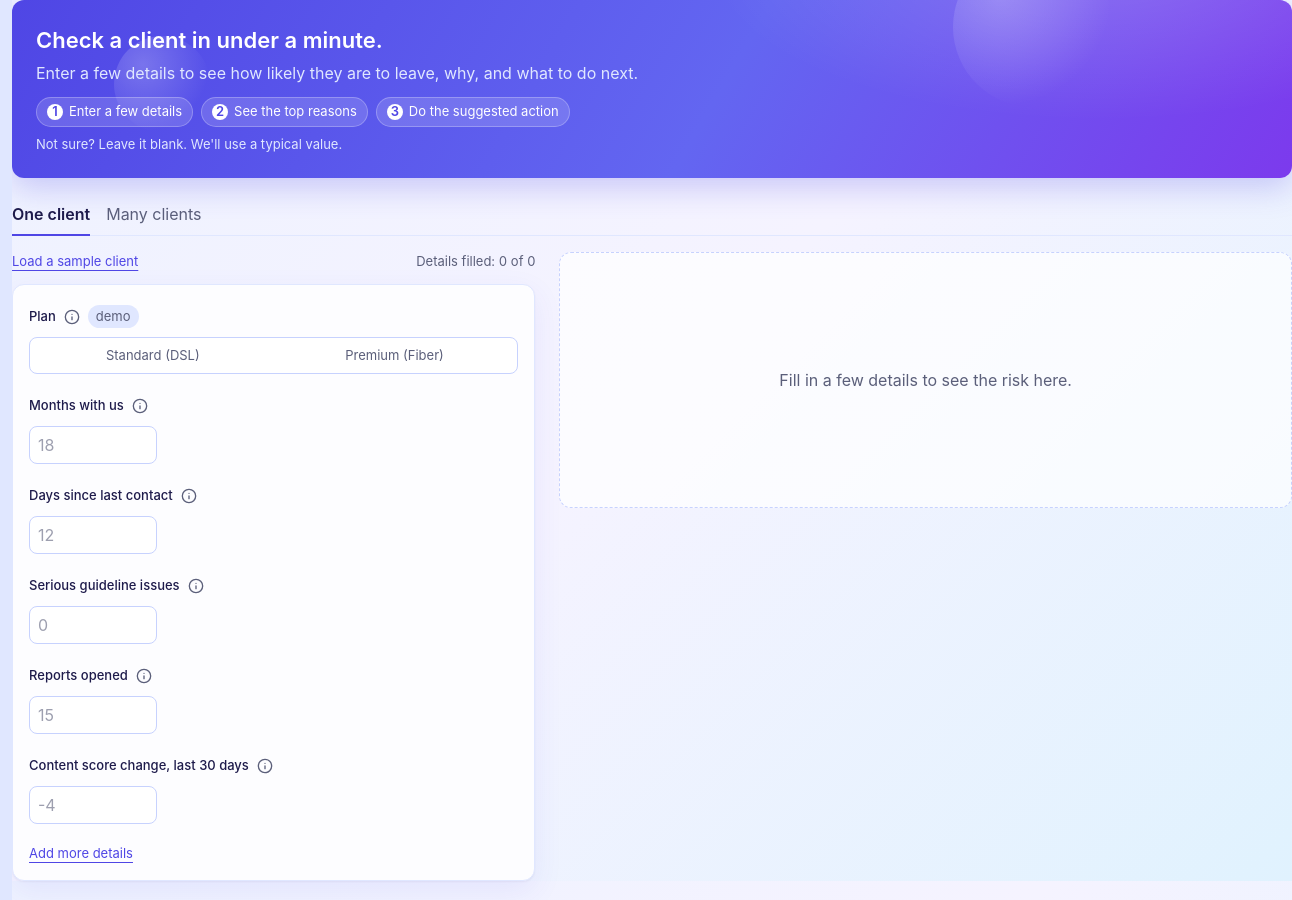
Sample client loads and fills the form › fills quick fields from the sample
Click the button "Load a sample client" at {"x": 75, "y": 262}, box [12,252,138,272]
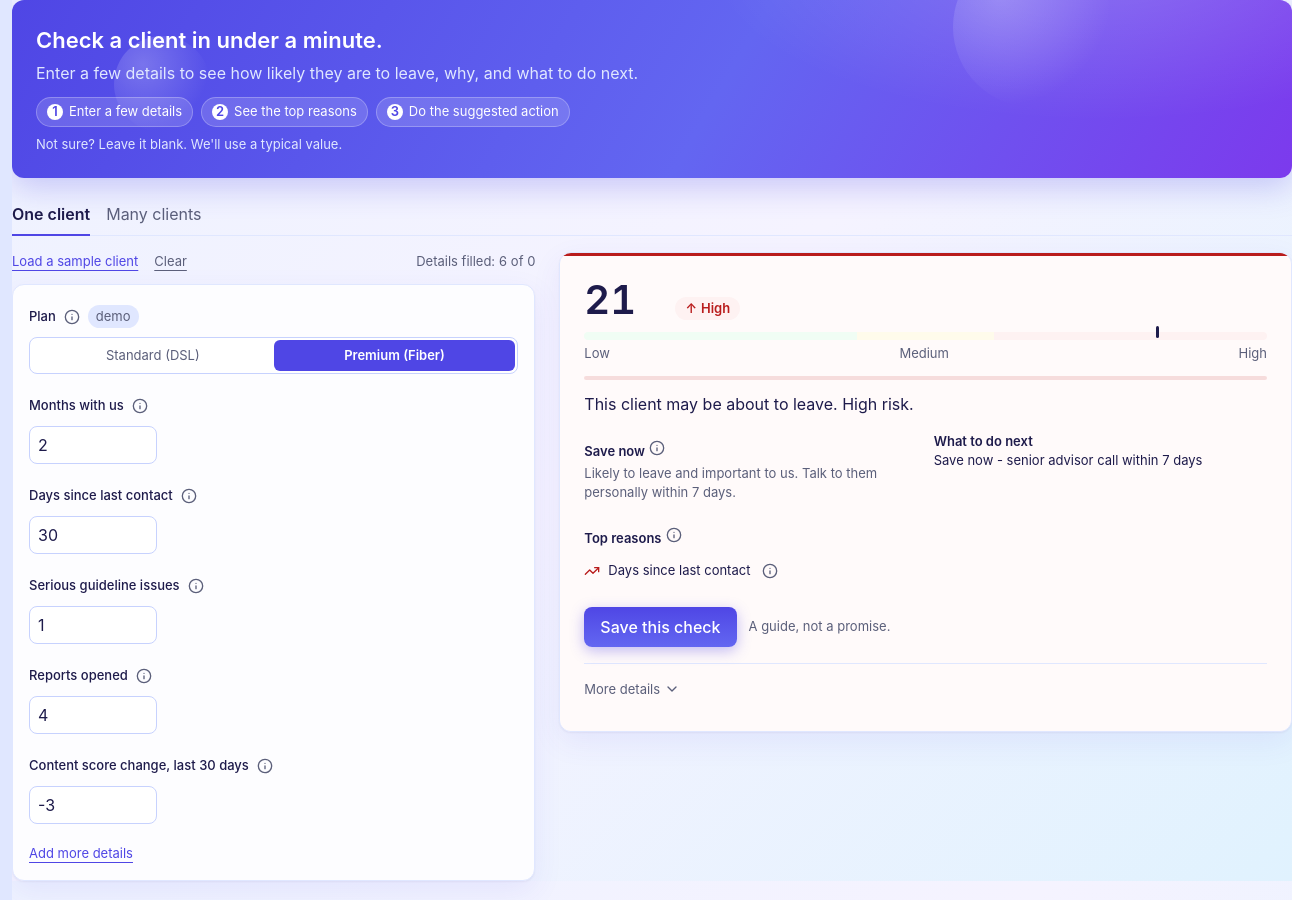
Check: the number field labelled "Months with us" holds "2", box [29,426,157,464]
